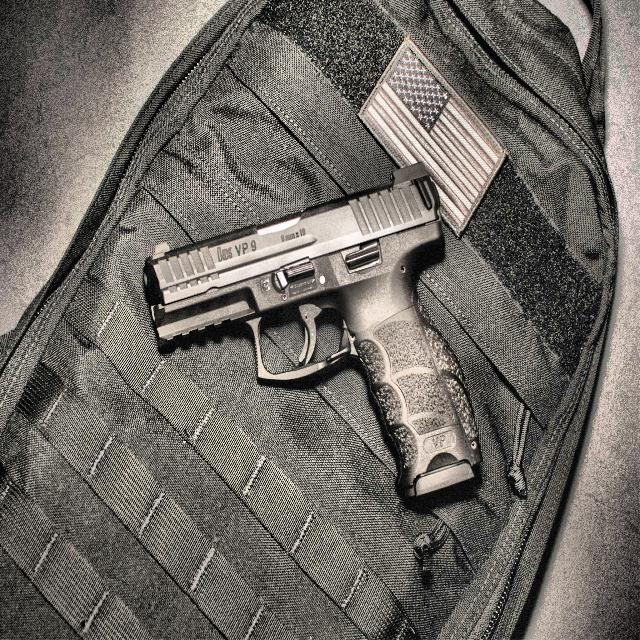HKVP9: (142, 160, 484, 506)
